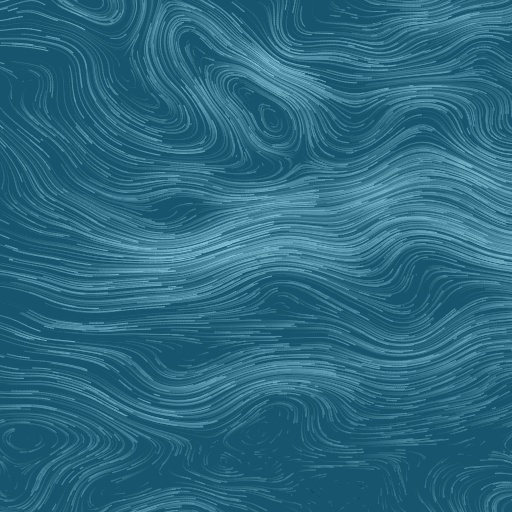eddy: (217, 65, 301, 151), (2, 420, 52, 458), (200, 447, 246, 476)
